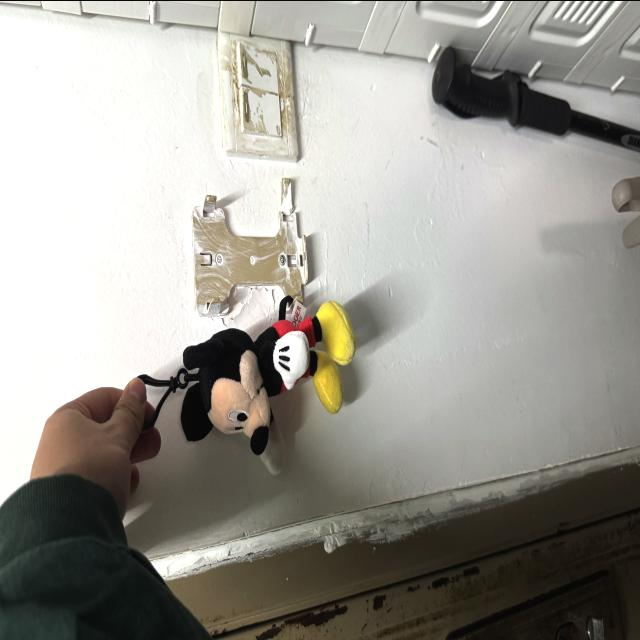mickey: (182, 301, 355, 453)
